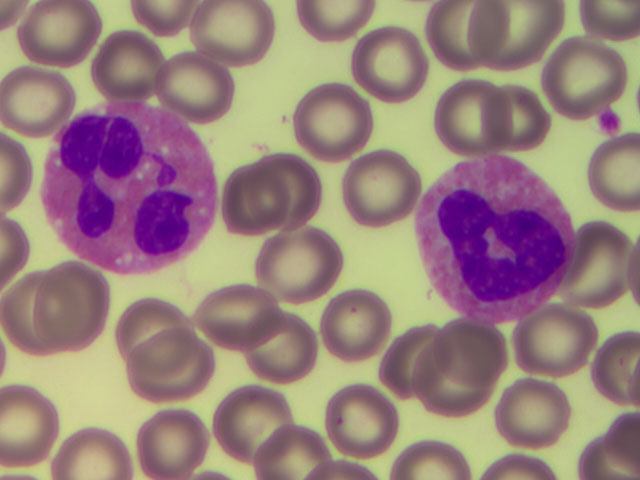Platelets: (597, 107, 623, 133)
RBC: (20, 1, 100, 73), (90, 27, 170, 99), (152, 47, 232, 119), (192, 1, 272, 73), (292, 83, 372, 155), (348, 31, 428, 103), (336, 144, 416, 216), (263, 155, 343, 227), (219, 166, 299, 238), (264, 227, 344, 299), (197, 279, 277, 351), (128, 334, 208, 406), (108, 292, 188, 364), (45, 262, 125, 334), (48, 408, 128, 480), (121, 408, 201, 480), (207, 385, 287, 457), (250, 408, 330, 480), (315, 385, 395, 457), (246, 310, 326, 382), (310, 289, 390, 361), (364, 325, 444, 397), (402, 350, 482, 422), (439, 316, 519, 388), (524, 309, 604, 381), (508, 383, 588, 455), (560, 229, 640, 301), (560, 133, 640, 205), (433, 82, 513, 154), (471, 82, 551, 154), (552, 40, 632, 112), (1, 59, 80, 131), (1, 279, 80, 351), (487, 1, 567, 72), (420, 1, 500, 72), (1, 387, 61, 473)
WBC: (47, 101, 225, 282), (424, 155, 576, 321)
